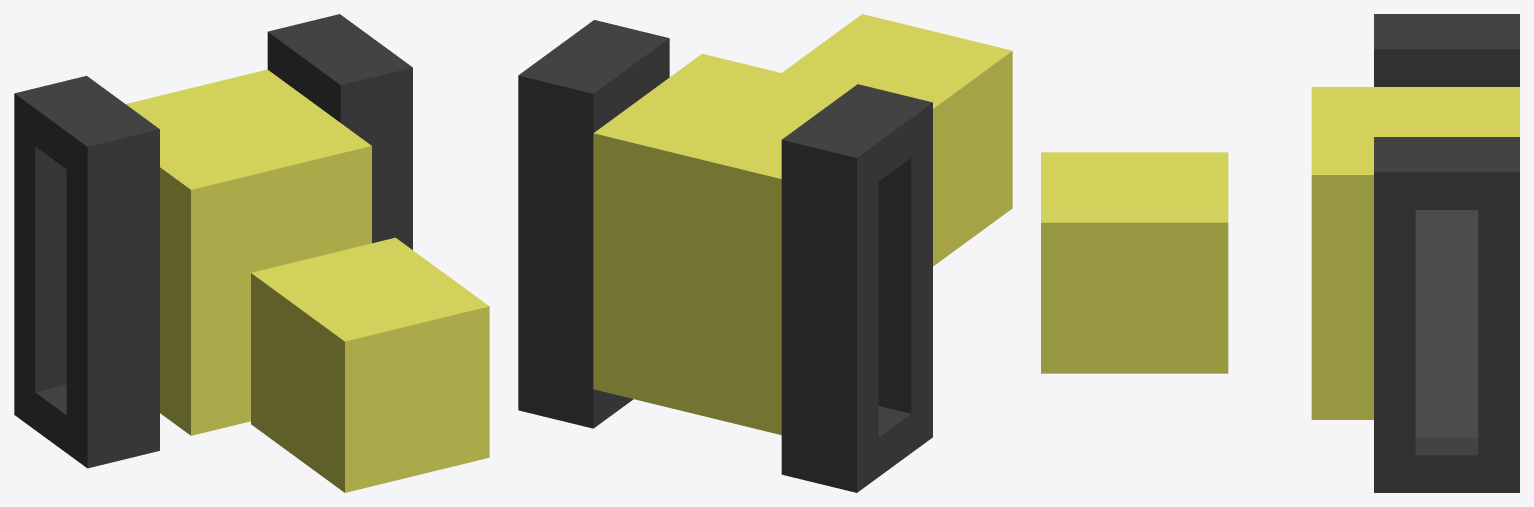
File: tracked robot spinning.obj
The picture shows the model from 3 angles, left to right: view 1: azimuth 30°, elevation 25°; view 2: azimuth 150°, elevation 25°; view 3: azimuth 270°, elevation 25°; orthographic projection. The views are drawn at different scales.
Bounding box in the file's own units: 18 × 17 × 23.
Materials: 1 (1 with a texture image).
